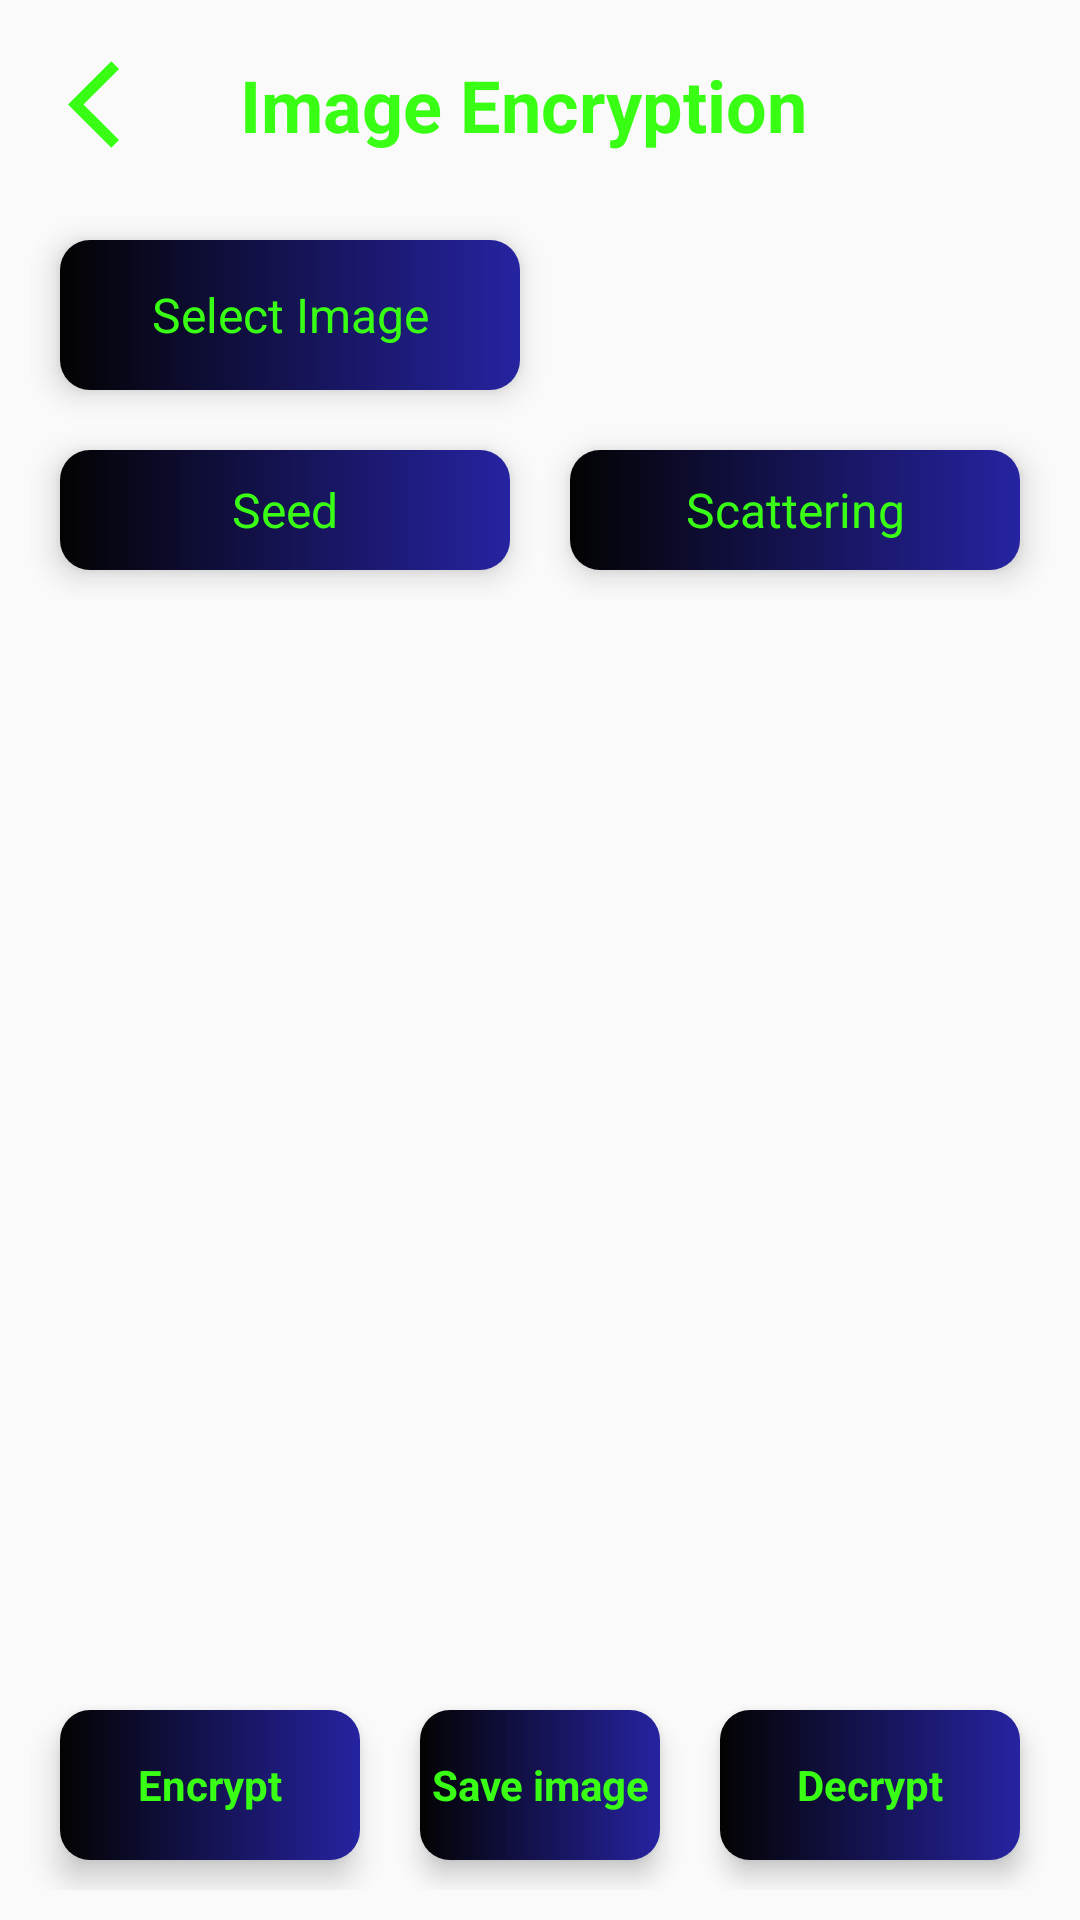

Point at icon controls on the screen. Image size 1080×1920, points as point (x, y).
back: point (93, 104)
